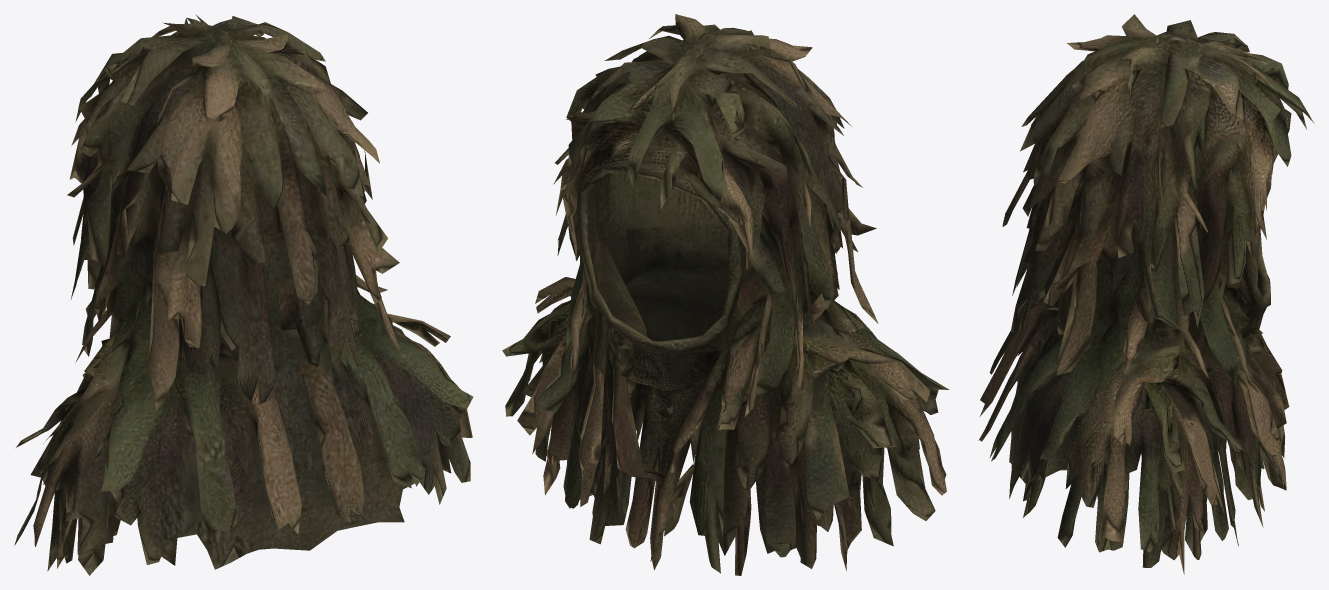
Rendered from ghillie_hood.glb.
3 views of the same model, side by side, from view 1: azimuth 30°, elevation 25°; view 2: azimuth 150°, elevation 25°; view 3: azimuth 270°, elevation 25° (orthographic). The views are drawn at different scales.
Parts seen in each view (by area): view 1: ghillie_hood; view 2: ghillie_hood; view 3: ghillie_hood.
Boxes of the visible parts, x1=… form: ghillie_hood: x1=14, y1=14, x2=473, y2=575; ghillie_hood: x1=502, y1=14, x2=949, y2=575; ghillie_hood: x1=978, y1=14, x2=1314, y2=574.
Size of the model in its own units: 0.451 by 0.5 by 0.3186.
Materials: 1 (1 with a texture image).
